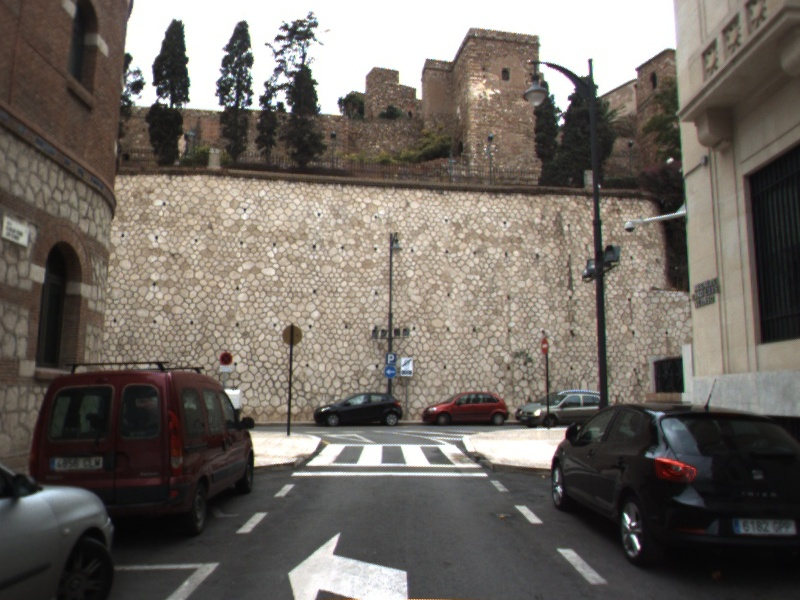LEFT: (286, 531, 409, 600)
